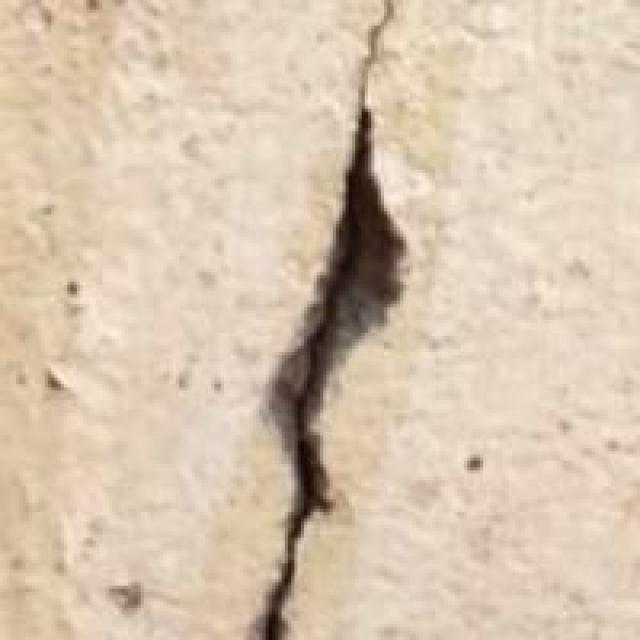Crack: (218, 0, 540, 637)
